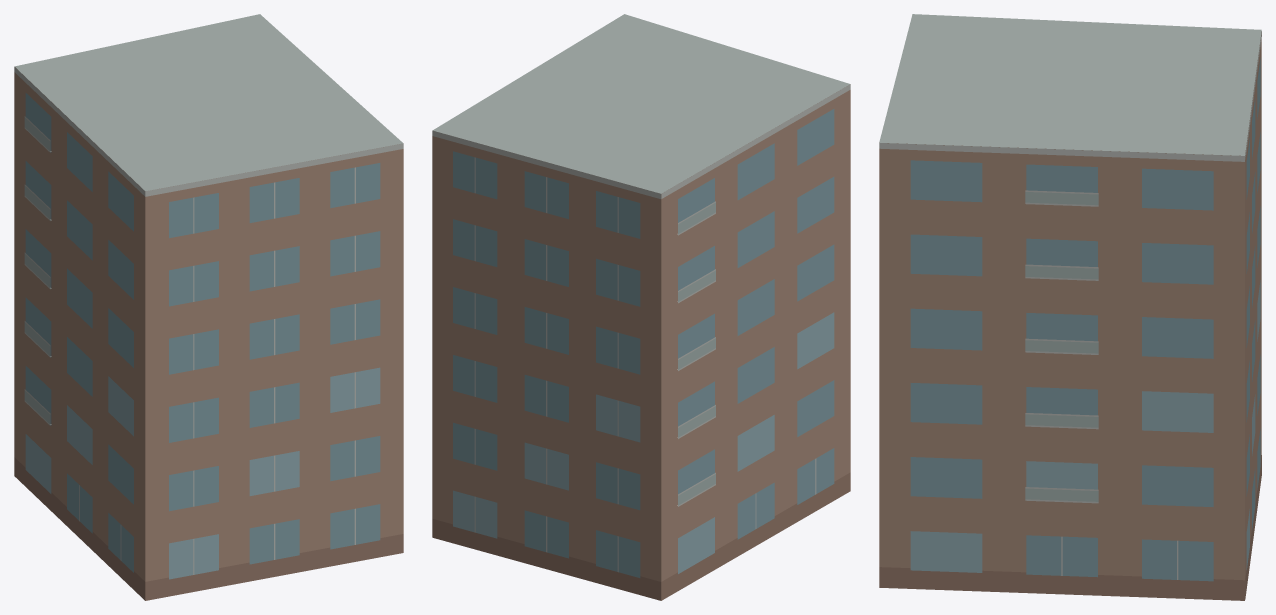
File: survey-upis-32527468.glb
3 views of the same model, side by side, from view 1: azimuth 30°, elevation 25°; view 2: azimuth 150°, elevation 25°; view 3: azimuth 270°, elevation 25° (orthographic). The views are drawn at different scales.
Parts seen in each view (by area): view 1: survey-upis-32527468.tmp; view 2: survey-upis-32527468.tmp; view 3: survey-upis-32527468.tmp.
Part boxes in pixels (x1,y1,x2,y2): survey-upis-32527468.tmp: (14,14,403,600); survey-upis-32527468.tmp: (432,14,850,600); survey-upis-32527468.tmp: (879,14,1261,600).
Size of the model in its own units: 12.36 by 18.05 by 14.08.
